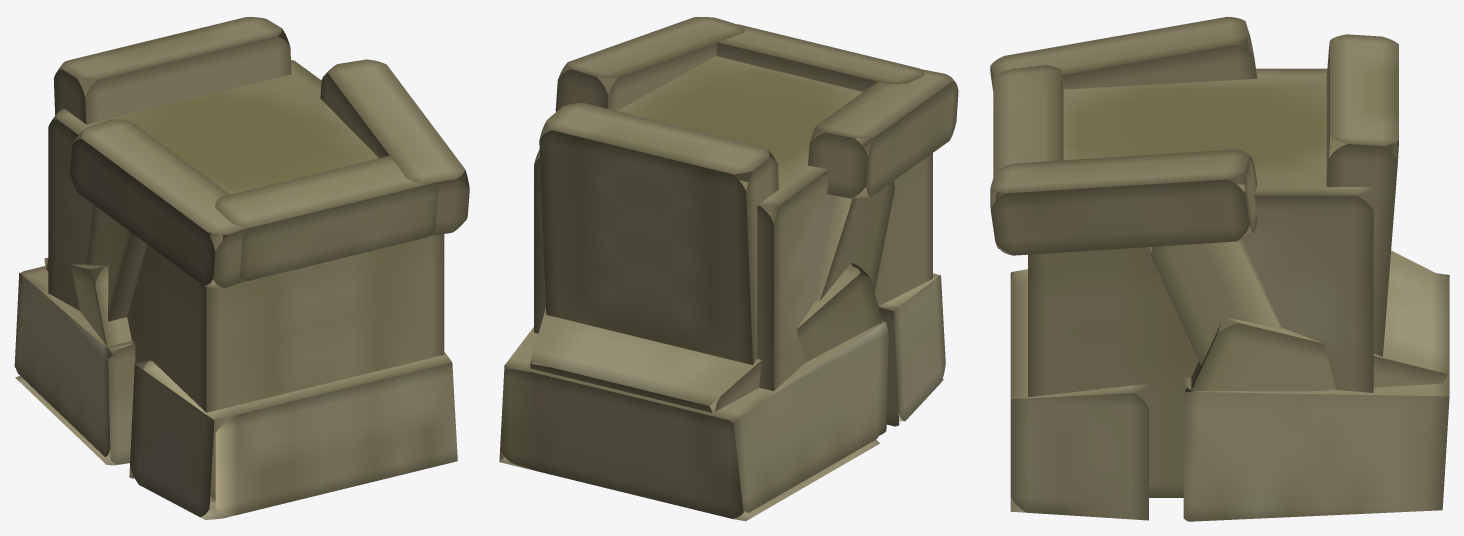
Rendered from generic_dark_tan_b_l.obj.
The picture shows the model from 3 angles, left to right: view 1: azimuth 30°, elevation 25°; view 2: azimuth 150°, elevation 25°; view 3: azimuth 270°, elevation 25°; orthographic projection. The views are drawn at different scales.
Visible parts, largest first — view 1: cube; view 2: cube; view 3: cube.
Part boxes in pixels (x1=…): cube: x1=14, y1=17, x2=469, y2=519; cube: x1=499, y1=17, x2=958, y2=521; cube: x1=990, y1=16, x2=1449, y2=521.
Size of the model in its own units: 0.3519 by 0.3565 by 0.4171.
